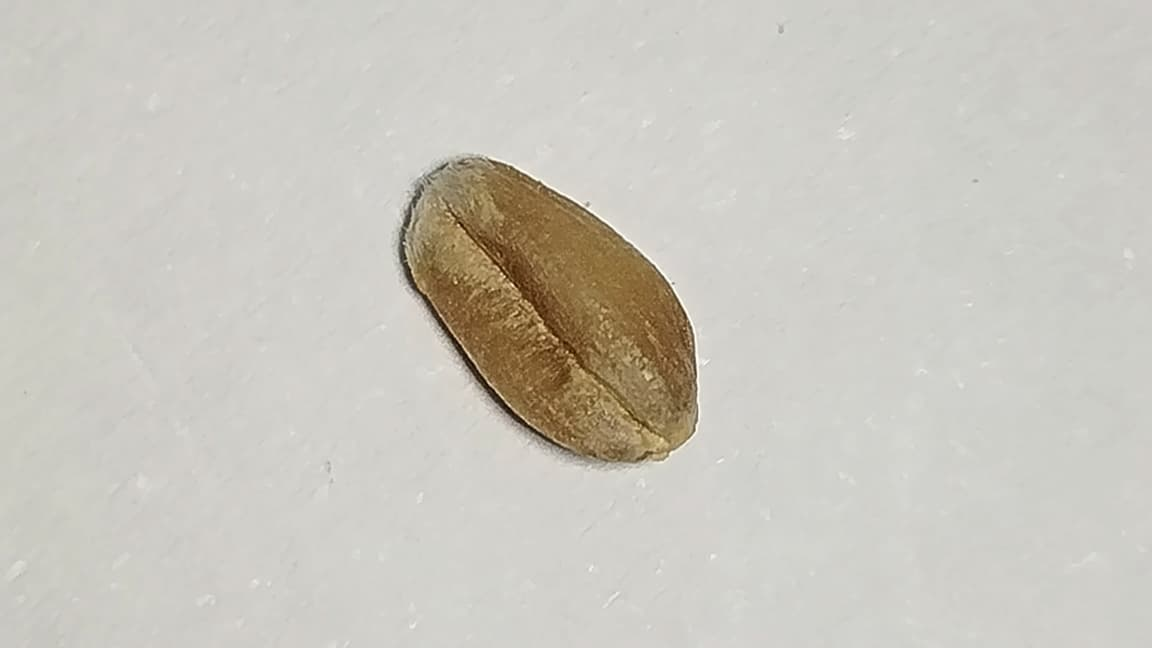healthy: (404, 156, 697, 461)
